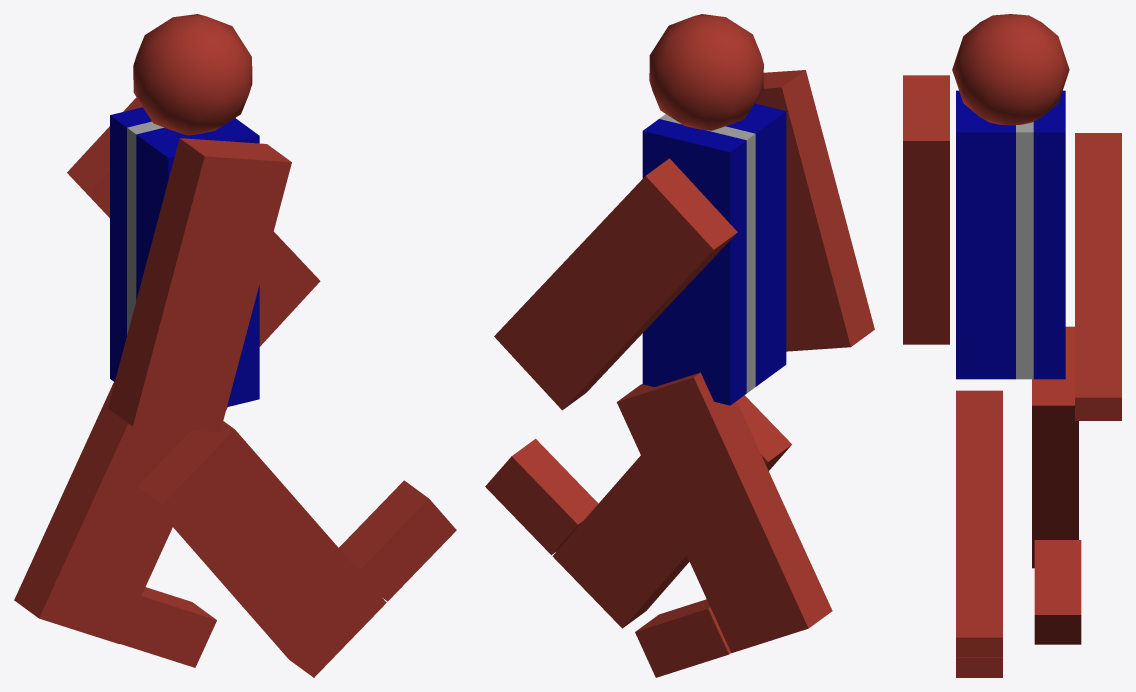
Rendered from player_000020.obj.
The picture shows the model from 3 angles, left to right: view 1: azimuth 30°, elevation 25°; view 2: azimuth 150°, elevation 25°; view 3: azimuth 270°, elevation 25°; orthographic projection. The views are drawn at different scales.
Visible parts, largest first — view 1: Cube.005, Cube.001, Cube.002, Cube, Icosphere, Cube.003, Cube.006, Cube.004; view 2: Cube.002, Cube, Cube.006, Cube.005, Cube.001, Icosphere, Cube.003, Cube.004; view 3: Cube, Cube.006, Cube.005, Cube.001, Icosphere, Cube.002, Cube.004, Cube.003.
Boxes of the visible parts, left/top/right/bottom form: Cube.005: left=108, top=138, right=291, bottom=432; Cube.001: left=137, top=421, right=386, bottom=677; Cube.002: left=14, top=382, right=227, bottom=643; Cube: left=110, top=107, right=259, bottom=406; Icosphere: left=133, top=14, right=252, bottom=135; Cube.003: left=339, top=480, right=456, bottom=601; Cube.006: left=67, top=97, right=320, bottom=346; Cube.004: left=119, top=587, right=216, bottom=667; Cube.002: left=616, top=372, right=832, bottom=653; Cube: left=642, top=103, right=786, bottom=405; Cube.006: left=494, top=158, right=737, bottom=410; Cube.005: left=755, top=70, right=874, bottom=351; Cube.001: left=552, top=395, right=791, bottom=628; Icosphere: left=649, top=14, right=763, bottom=130; Cube.003: left=485, top=438, right=598, bottom=554; Cube.004: left=635, top=599, right=730, bottom=677; Cube: left=956, top=90, right=1065, bottom=379; Cube.006: left=1075, top=133, right=1121, bottom=420; Cube.005: left=903, top=75, right=949, bottom=344; Cube.001: left=956, top=390, right=1002, bottom=677; Icosphere: left=952, top=14, right=1069, bottom=125; Cube.002: left=1032, top=326, right=1078, bottom=568; Cube.004: left=1034, top=540, right=1081, bottom=644; Cube.003: left=956, top=589, right=1002, bottom=656.
Bounding box in the file's own units: 1.7 × 2.85 × 0.9137.
